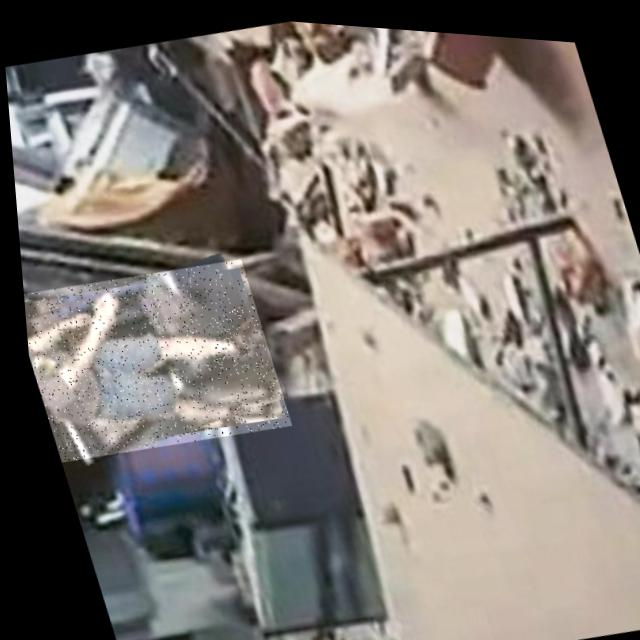Person in Rubble: (15, 241, 287, 474)
